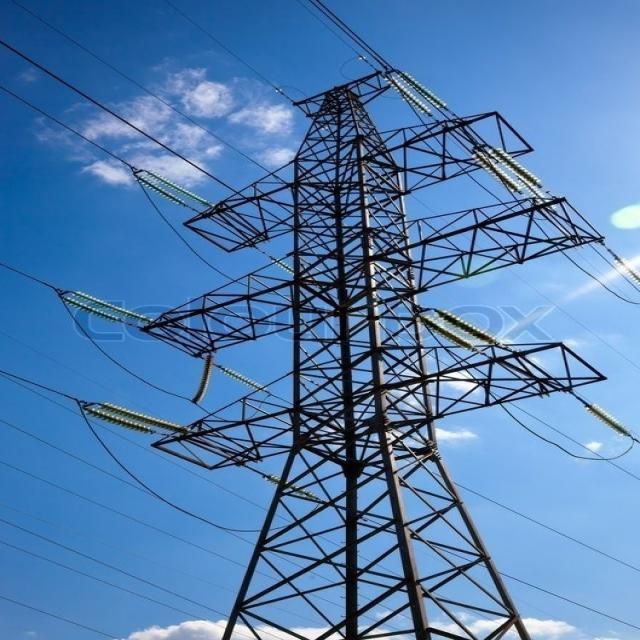non-critical vegetation: (152, 70, 584, 572)
